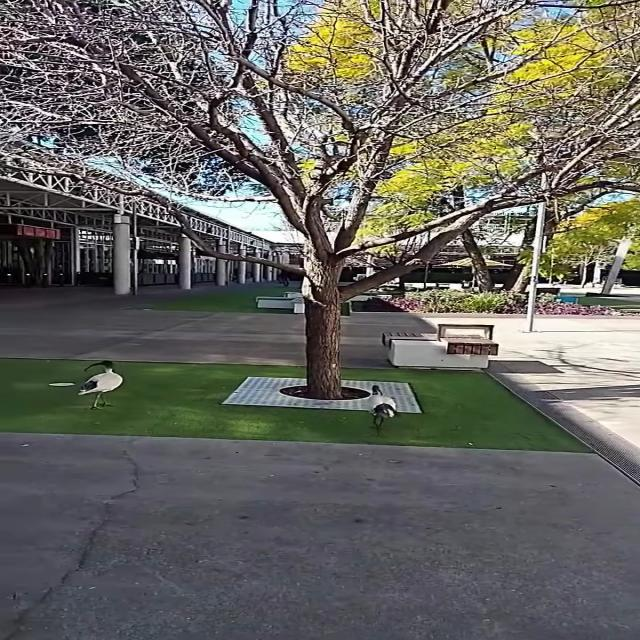Birds-Ibis: (70, 354, 130, 414), (356, 381, 408, 437)
